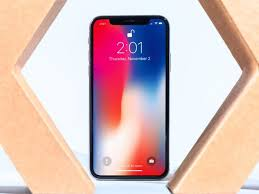samsung: (88, 12, 172, 182)
